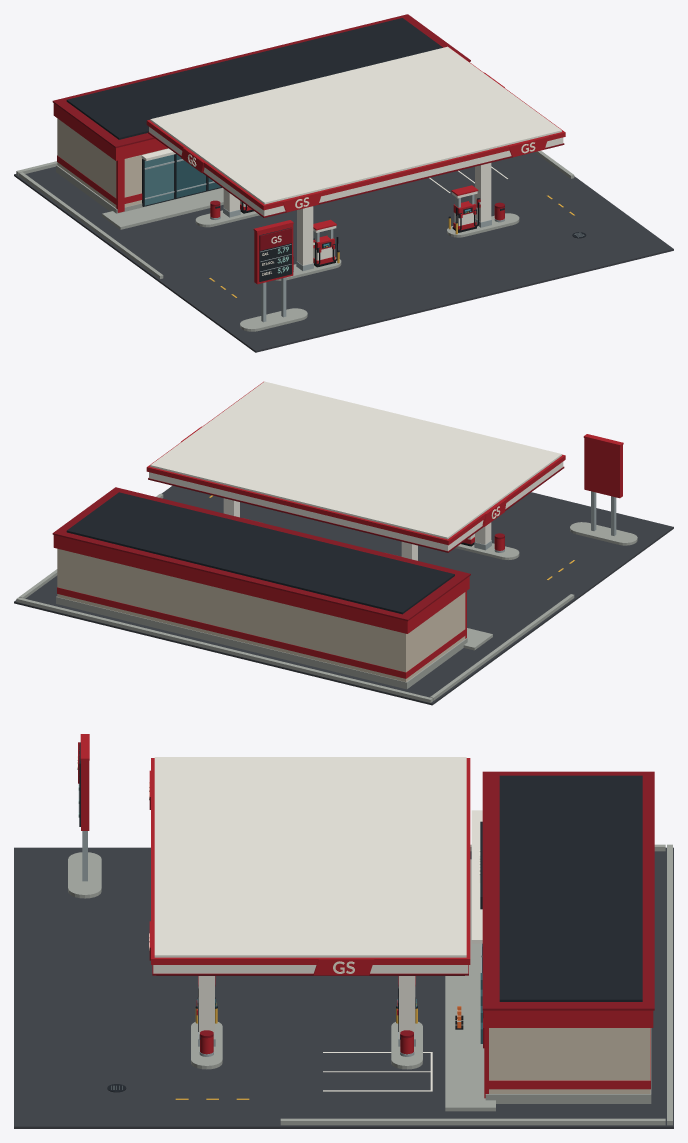
Rendered from posto-gs.glb.
3 renders of one model, top to bottom at view 1: azimuth 30°, elevation 25°; view 2: azimuth 150°, elevation 25°; view 3: azimuth 270°, elevation 25°, orthographic. The views are drawn at different scales.
Visible parts, largest first — view 1: posto-asphalt-base, posto-white-cobertura, posto-ink-cobertura, posto-concrete-base, posto-red-cobertura, posto-darkRed-cobertura, posto-wall-estrutura, posto-white-estrutura, posto-red-estrutura, posto-glassLight-estrutura, posto-glass-estrutura, posto-metal-estrutura (+2 smaller); view 2: posto-white-cobertura, posto-asphalt-base, posto-ink-cobertura, posto-wall-estrutura, posto-red-cobertura, posto-concrete-base, posto-darkRed-cobertura, posto-red-estrutura, posto-white-estrutura; view 3: posto-asphalt-base, posto-white-cobertura, posto-ink-cobertura, posto-concrete-base, posto-darkRed-cobertura, posto-wall-estrutura, posto-red-cobertura, posto-white-estrutura, posto-red-estrutura, posto-white-base.
Boxes of the visible parts, x1,y1,x2,y2 form: posto-asphalt-base: [14, 152, 673, 352]; posto-white-cobertura: [149, 46, 563, 216]; posto-ink-cobertura: [66, 18, 442, 281]; posto-concrete-base: [16, 150, 574, 331]; posto-red-cobertura: [53, 47, 565, 284]; posto-darkRed-cobertura: [52, 14, 564, 250]; posto-wall-estrutura: [57, 118, 168, 207]; posto-white-estrutura: [141, 148, 491, 265]; posto-red-estrutura: [57, 155, 504, 269]; posto-glassLight-estrutura: [144, 154, 173, 205]; posto-glass-estrutura: [176, 154, 220, 197]; posto-metal-estrutura: [144, 159, 474, 322]; posto-white-cobertura: [149, 381, 563, 550]; posto-asphalt-base: [14, 485, 673, 705]; posto-ink-cobertura: [66, 492, 454, 614]; posto-wall-estrutura: [57, 548, 465, 681]; posto-red-cobertura: [53, 381, 623, 633]; posto-concrete-base: [16, 493, 637, 702]; posto-darkRed-cobertura: [52, 466, 564, 621]; posto-red-estrutura: [57, 518, 504, 678]; posto-white-estrutura: [223, 498, 491, 560]; posto-asphalt-base: [14, 847, 673, 1128]; posto-white-cobertura: [153, 757, 468, 973]; posto-ink-cobertura: [79, 742, 642, 1001]; posto-concrete-base: [68, 844, 672, 1125]; posto-darkRed-cobertura: [78, 742, 654, 1010]; posto-wall-estrutura: [489, 1028, 650, 1093]; posto-red-cobertura: [80, 734, 653, 1027]; posto-white-estrutura: [198, 810, 482, 1039]; posto-red-estrutura: [196, 976, 650, 1098]; posto-white-base: [323, 1009, 461, 1091].
Size of the model in its own units: 22.8 by 5.08 by 22.8.
